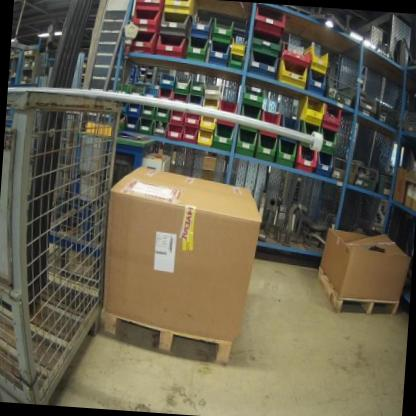pallet: (100, 310, 235, 365), (314, 266, 402, 318)
stillage: (0, 82, 132, 408)
